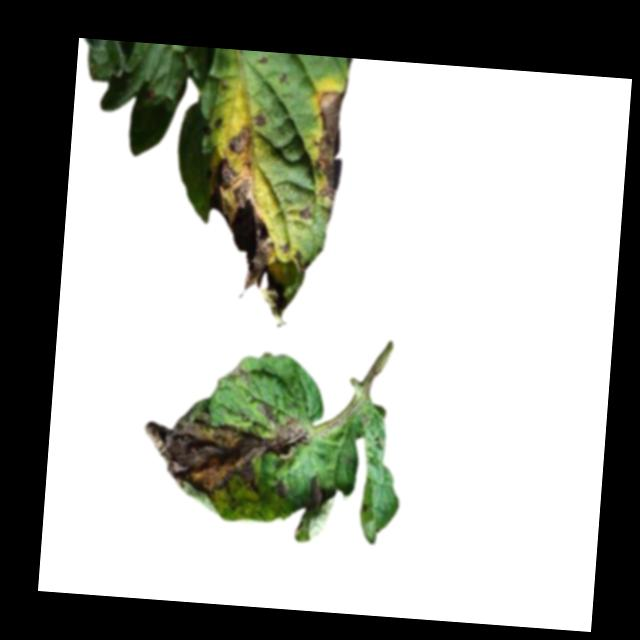Early_blight: (136, 395, 312, 503), (196, 155, 295, 328), (309, 89, 346, 200), (224, 125, 253, 157), (305, 476, 327, 516), (230, 362, 249, 387), (290, 250, 309, 275), (253, 112, 268, 127), (211, 117, 225, 132), (299, 207, 312, 222)
